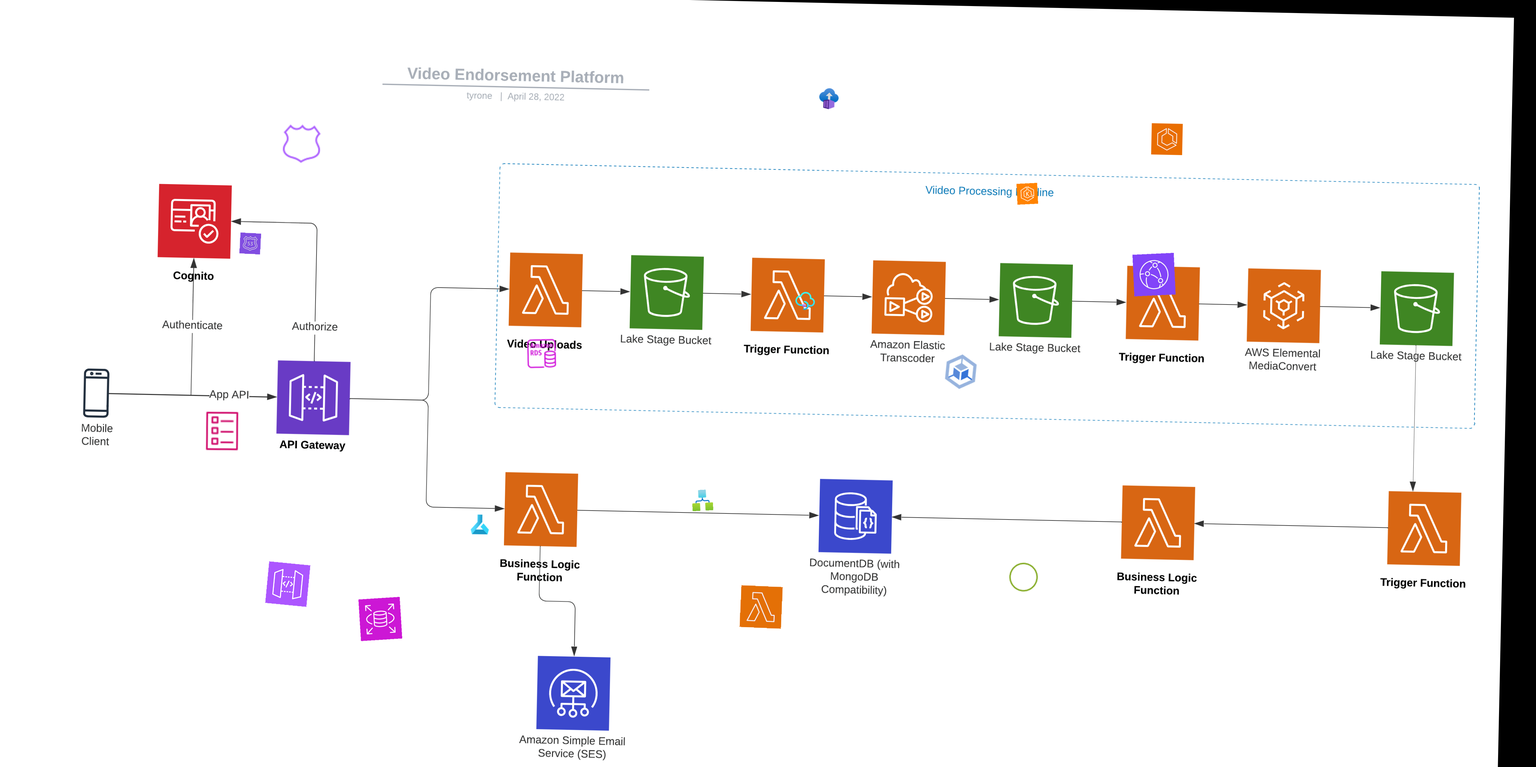aws_amazon_api_gateway: (265, 561, 310, 607)
aws_amazon_cloudfront: (1131, 252, 1176, 297)
aws_amazon_elastic_container_service: (1151, 123, 1183, 155)
aws_amazon_elastic_kubernetes_service: (1016, 182, 1039, 205)
aws_amazon_rds: (357, 596, 403, 642)
aws_amazon_route_53: (239, 232, 261, 254)
aws_aurora_amazon_rds_instance: (525, 337, 558, 370)
aws_cloudformation_template: (200, 409, 243, 452)
aws_lambda: (739, 585, 783, 629)
aws_route_53_hosted_zone: (280, 122, 324, 165)
aws_simple_storage_service_object: (1006, 560, 1041, 594)
azure_api_management_services: (794, 290, 816, 312)
azure_container_instances: (818, 88, 840, 110)
azure_logic_apps: (691, 489, 714, 512)
azure_machine_learning: (469, 513, 491, 535)
gcp_google_kubernetes_engine: (938, 348, 983, 394)
